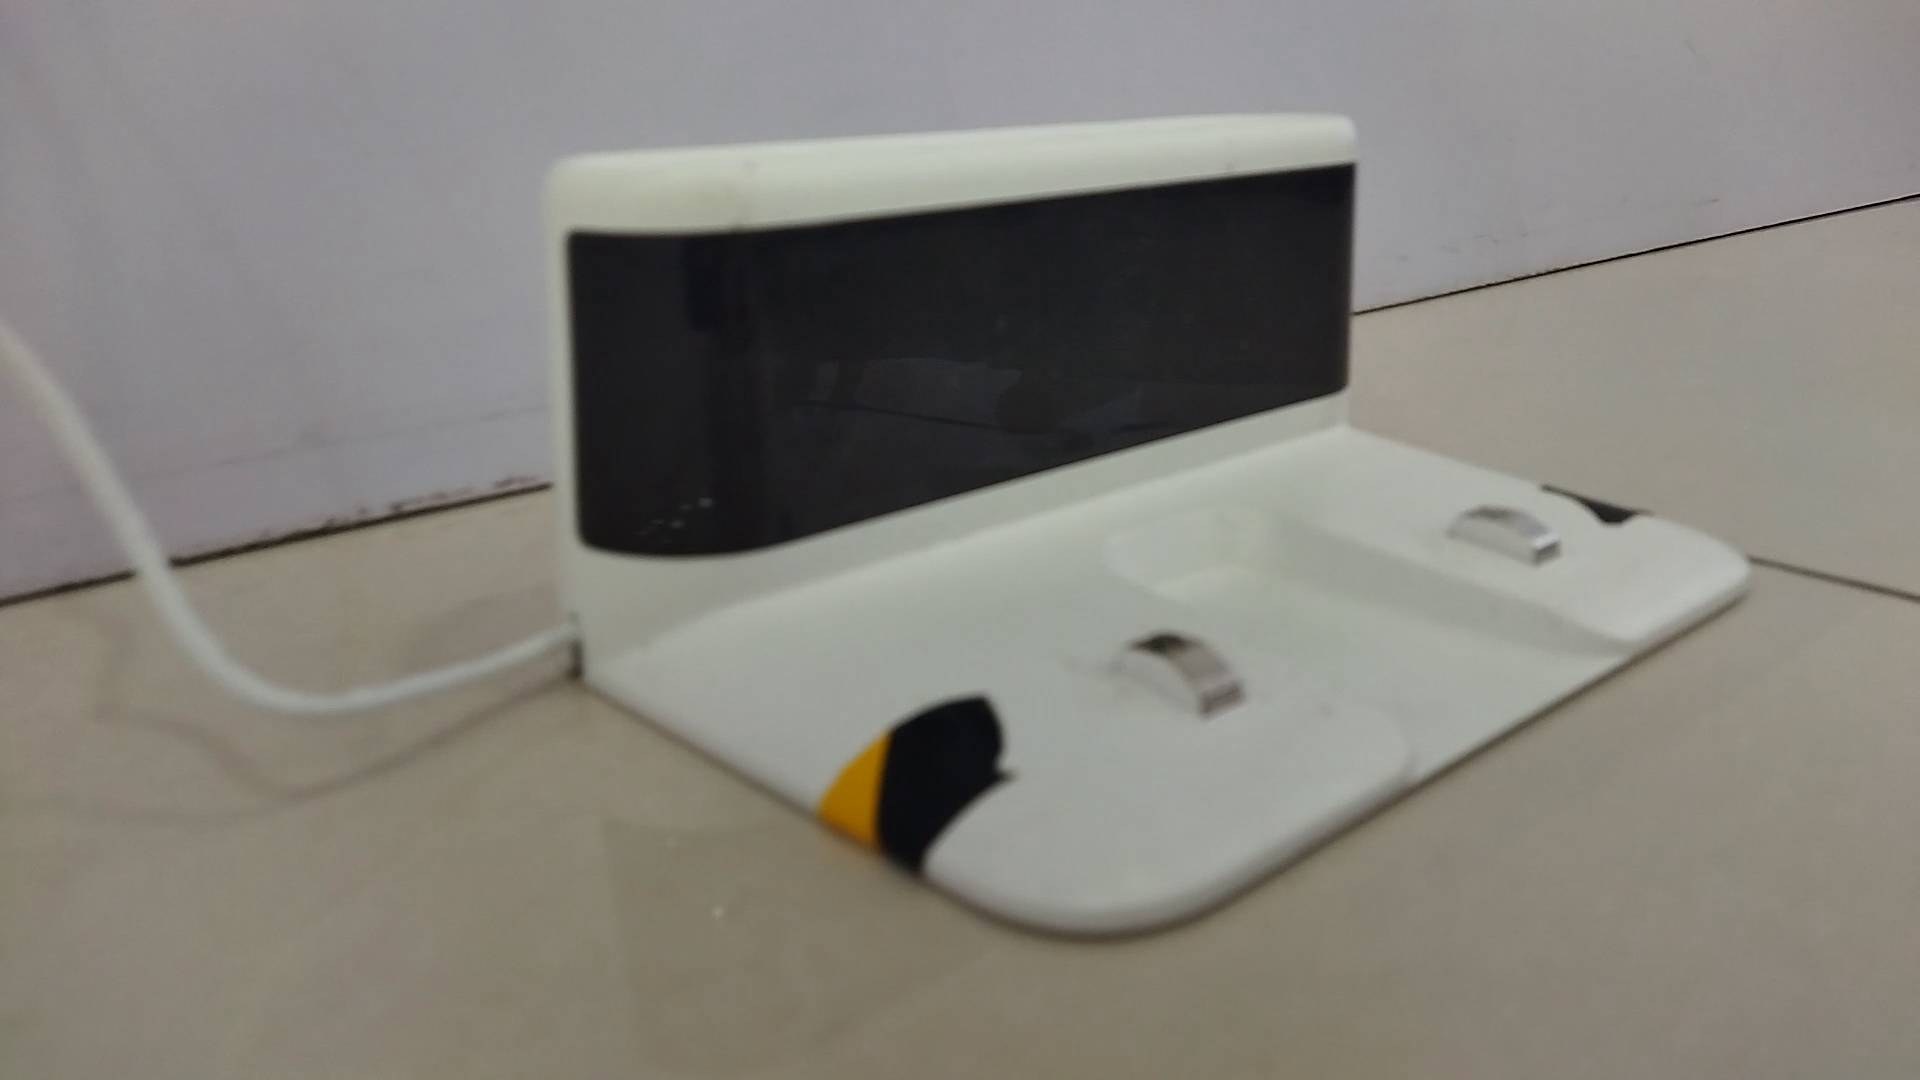recharge seat: (543, 107, 1760, 940)
